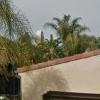Palm tree: (48, 9, 86, 53)
